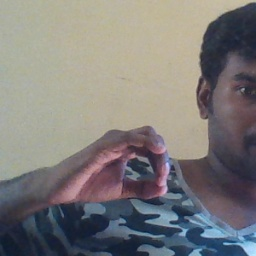O: (56, 120, 178, 207)
